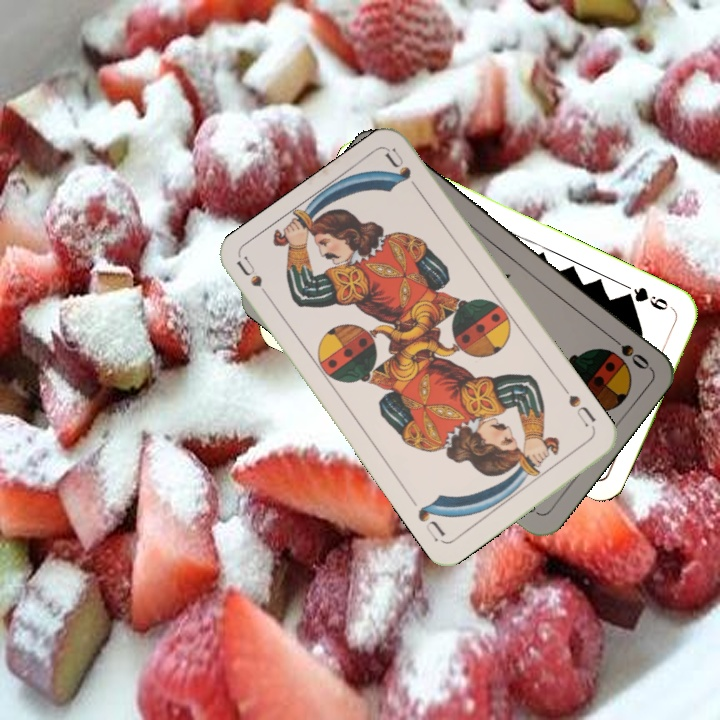G9: (619, 283, 678, 315)
SO: (602, 329, 652, 373)
SU: (233, 253, 277, 307), (559, 382, 599, 435)
